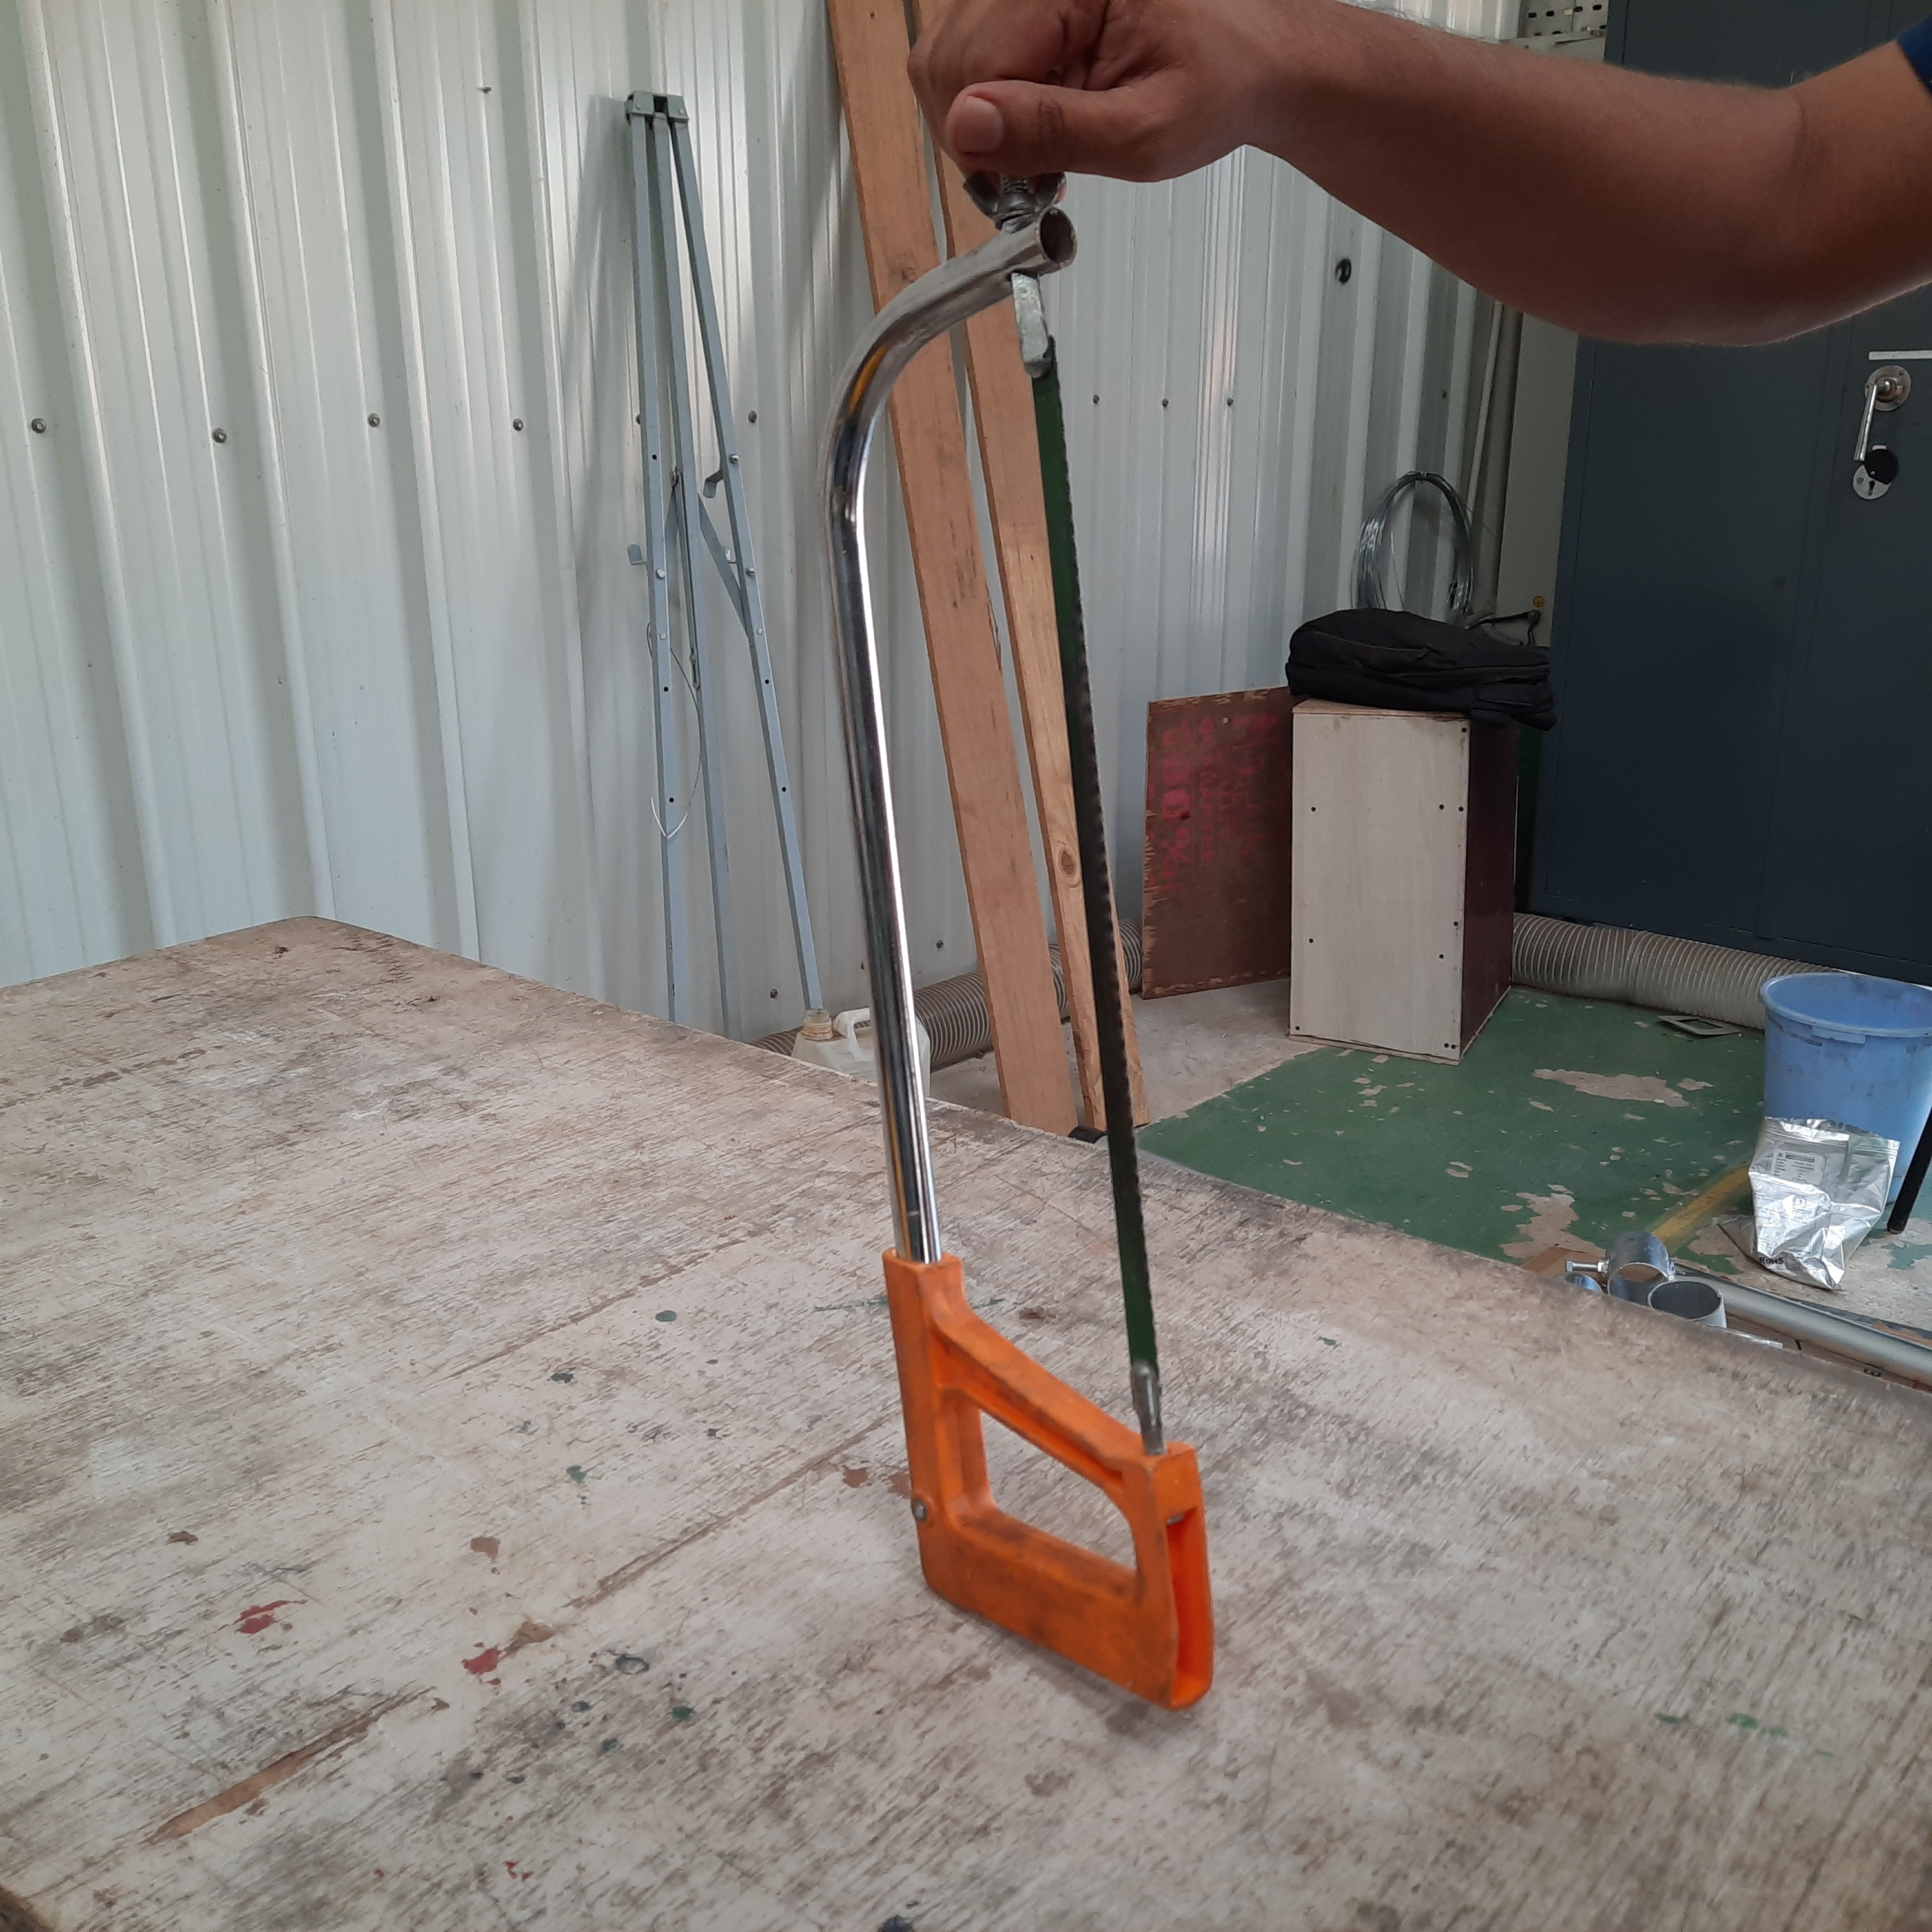Hexaframe: (780, 203, 1237, 1729)
